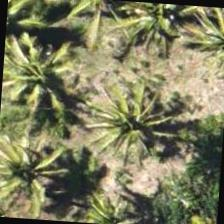Kelapa_Sawit: (80, 69, 176, 165), (0, 28, 93, 125), (0, 121, 78, 217), (112, 0, 206, 60), (64, 172, 158, 223)
